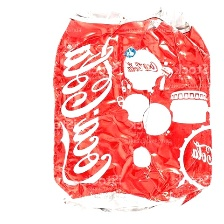can: (47, 4, 217, 218)
